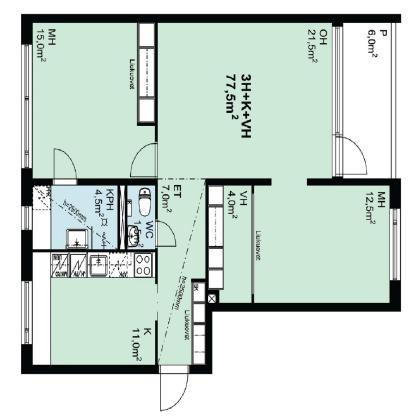door: (125, 142, 163, 181), (332, 136, 369, 176), (160, 365, 190, 412), (52, 147, 78, 187), (154, 220, 177, 250)
window: (332, 26, 344, 176), (22, 43, 32, 168), (390, 208, 402, 285), (20, 282, 34, 344), (20, 205, 34, 231)
zone: (158, 22, 330, 178), (34, 23, 158, 179), (253, 183, 391, 305), (33, 250, 156, 365), (159, 180, 206, 366), (344, 23, 392, 177), (32, 184, 118, 248), (208, 184, 250, 306), (128, 182, 156, 250)
